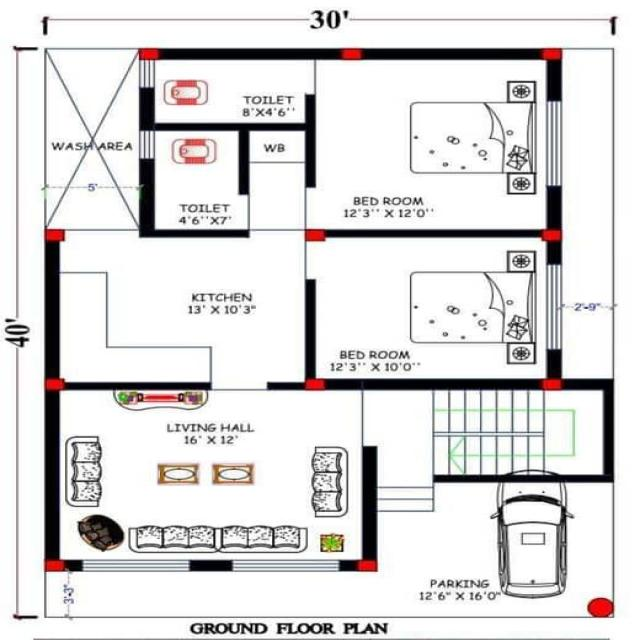column: (338, 46, 368, 63), (299, 377, 330, 393), (538, 227, 568, 243), (134, 46, 162, 62), (538, 46, 566, 62), (301, 227, 329, 243), (539, 376, 567, 392), (41, 376, 68, 392), (41, 227, 67, 243), (354, 557, 380, 573), (41, 559, 67, 573)
